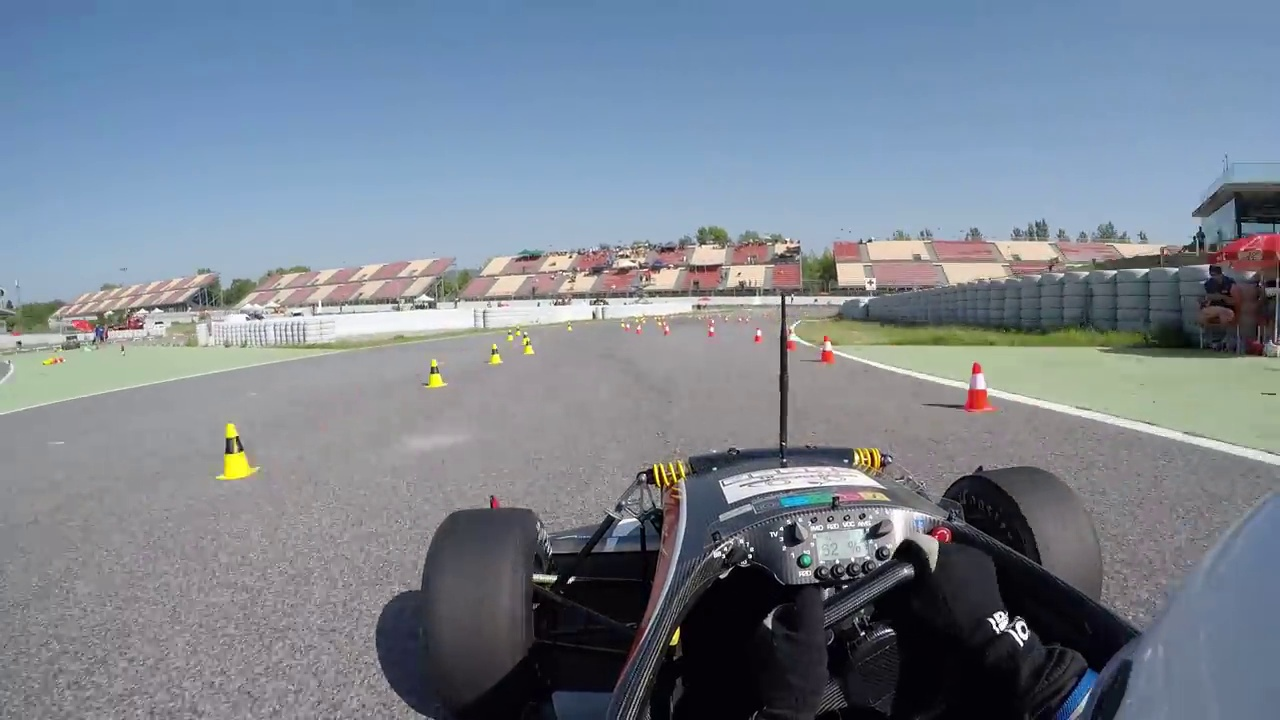Cone: (218, 422, 257, 482), (962, 362, 997, 413), (426, 356, 448, 393), (815, 332, 839, 364)
